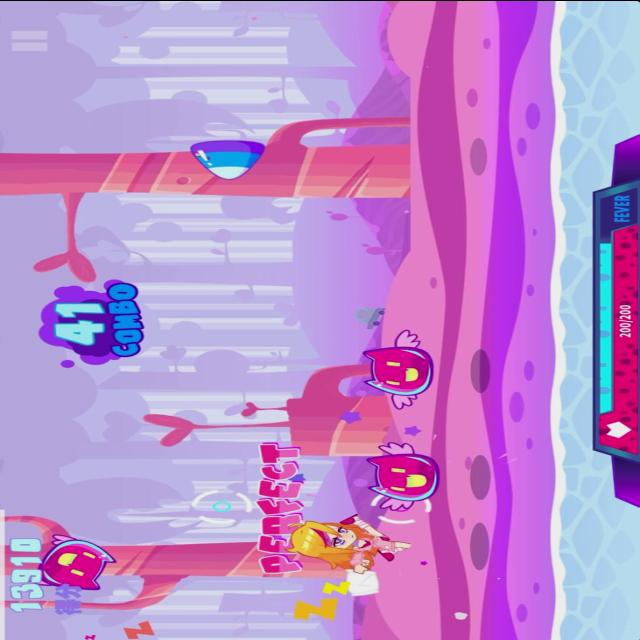mao: (356, 326, 438, 411), (360, 438, 444, 512), (30, 530, 120, 590)
